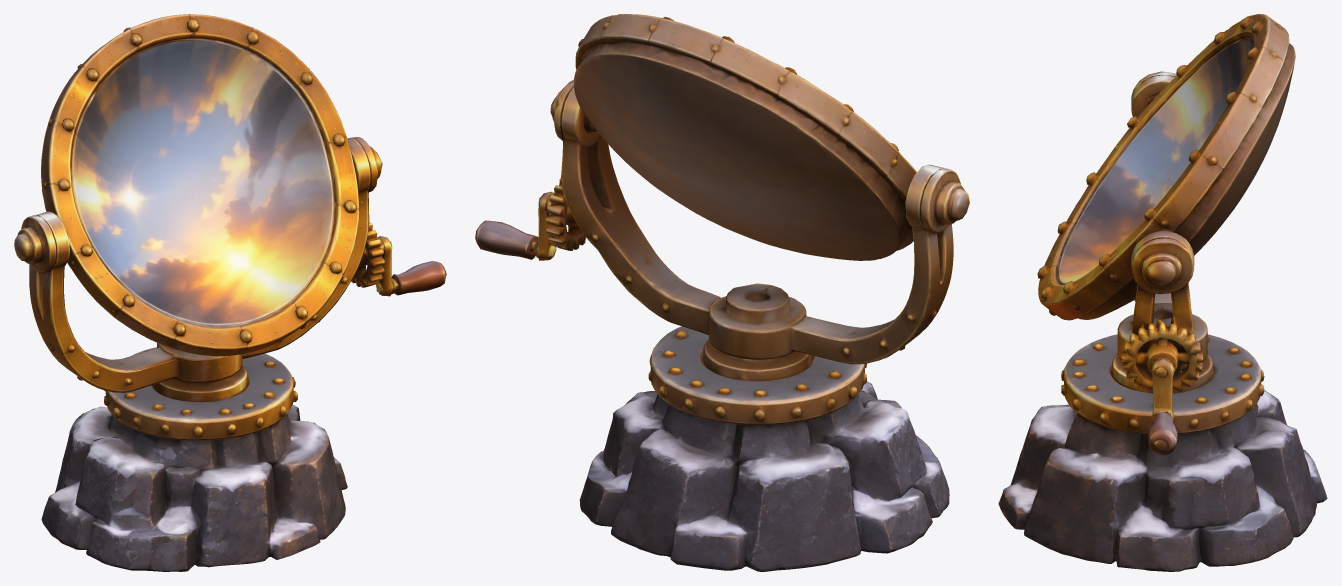
Rendered from spotlight.glb.
3 renders of one model, left to right at view 1: azimuth 30°, elevation 25°; view 2: azimuth 150°, elevation 25°; view 3: azimuth 270°, elevation 25°, orthographic. The views are drawn at different scales.
Visible parts, largest first — view 1: tripo_node_5e3be8ed-6a1c-4429-9055-ae7b56949a70; view 2: tripo_node_5e3be8ed-6a1c-4429-9055-ae7b56949a70; view 3: tripo_node_5e3be8ed-6a1c-4429-9055-ae7b56949a70.
Part boxes in pixels (<box>): tripo_node_5e3be8ed-6a1c-4429-9055-ae7b56949a70: <box>14,14,446,571</box>; tripo_node_5e3be8ed-6a1c-4429-9055-ae7b56949a70: <box>475,14,969,571</box>; tripo_node_5e3be8ed-6a1c-4429-9055-ae7b56949a70: <box>998,14,1327,571</box>.
Size of the model in its own units: 0.9925 by 1 by 0.6221.
1 material, 1 textured.
